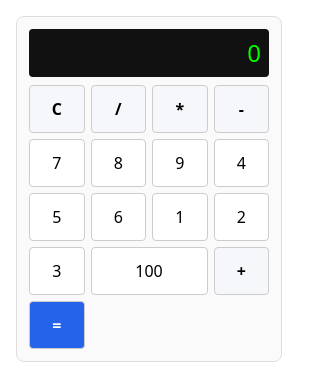
Test case: Calculator component › ゼロ除算でError表示
The width and height of the screenshot is (320, 379).
Click the button "8": {"x": 118, "y": 163} [90,139,146,187]
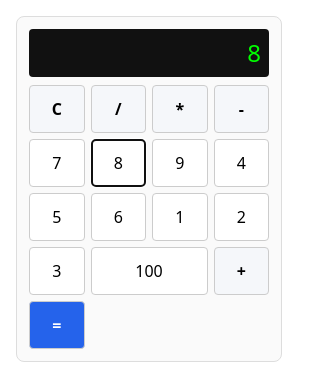
Click the button "/": {"x": 118, "y": 109} [90,85,146,133]
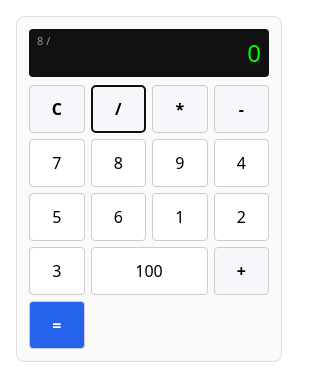
Click the button "100": {"x": 149, "y": 271} [90,247,208,295]
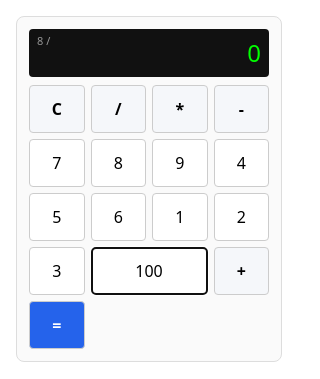
Click the button "=": {"x": 57, "y": 325} [29,301,84,349]
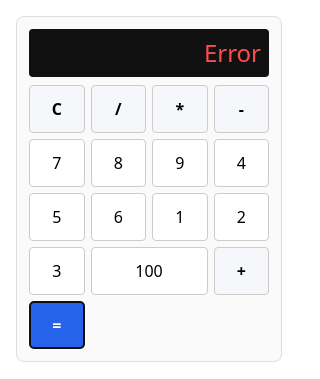
Result: the text "Error" is shown at [204,35,261,71]
